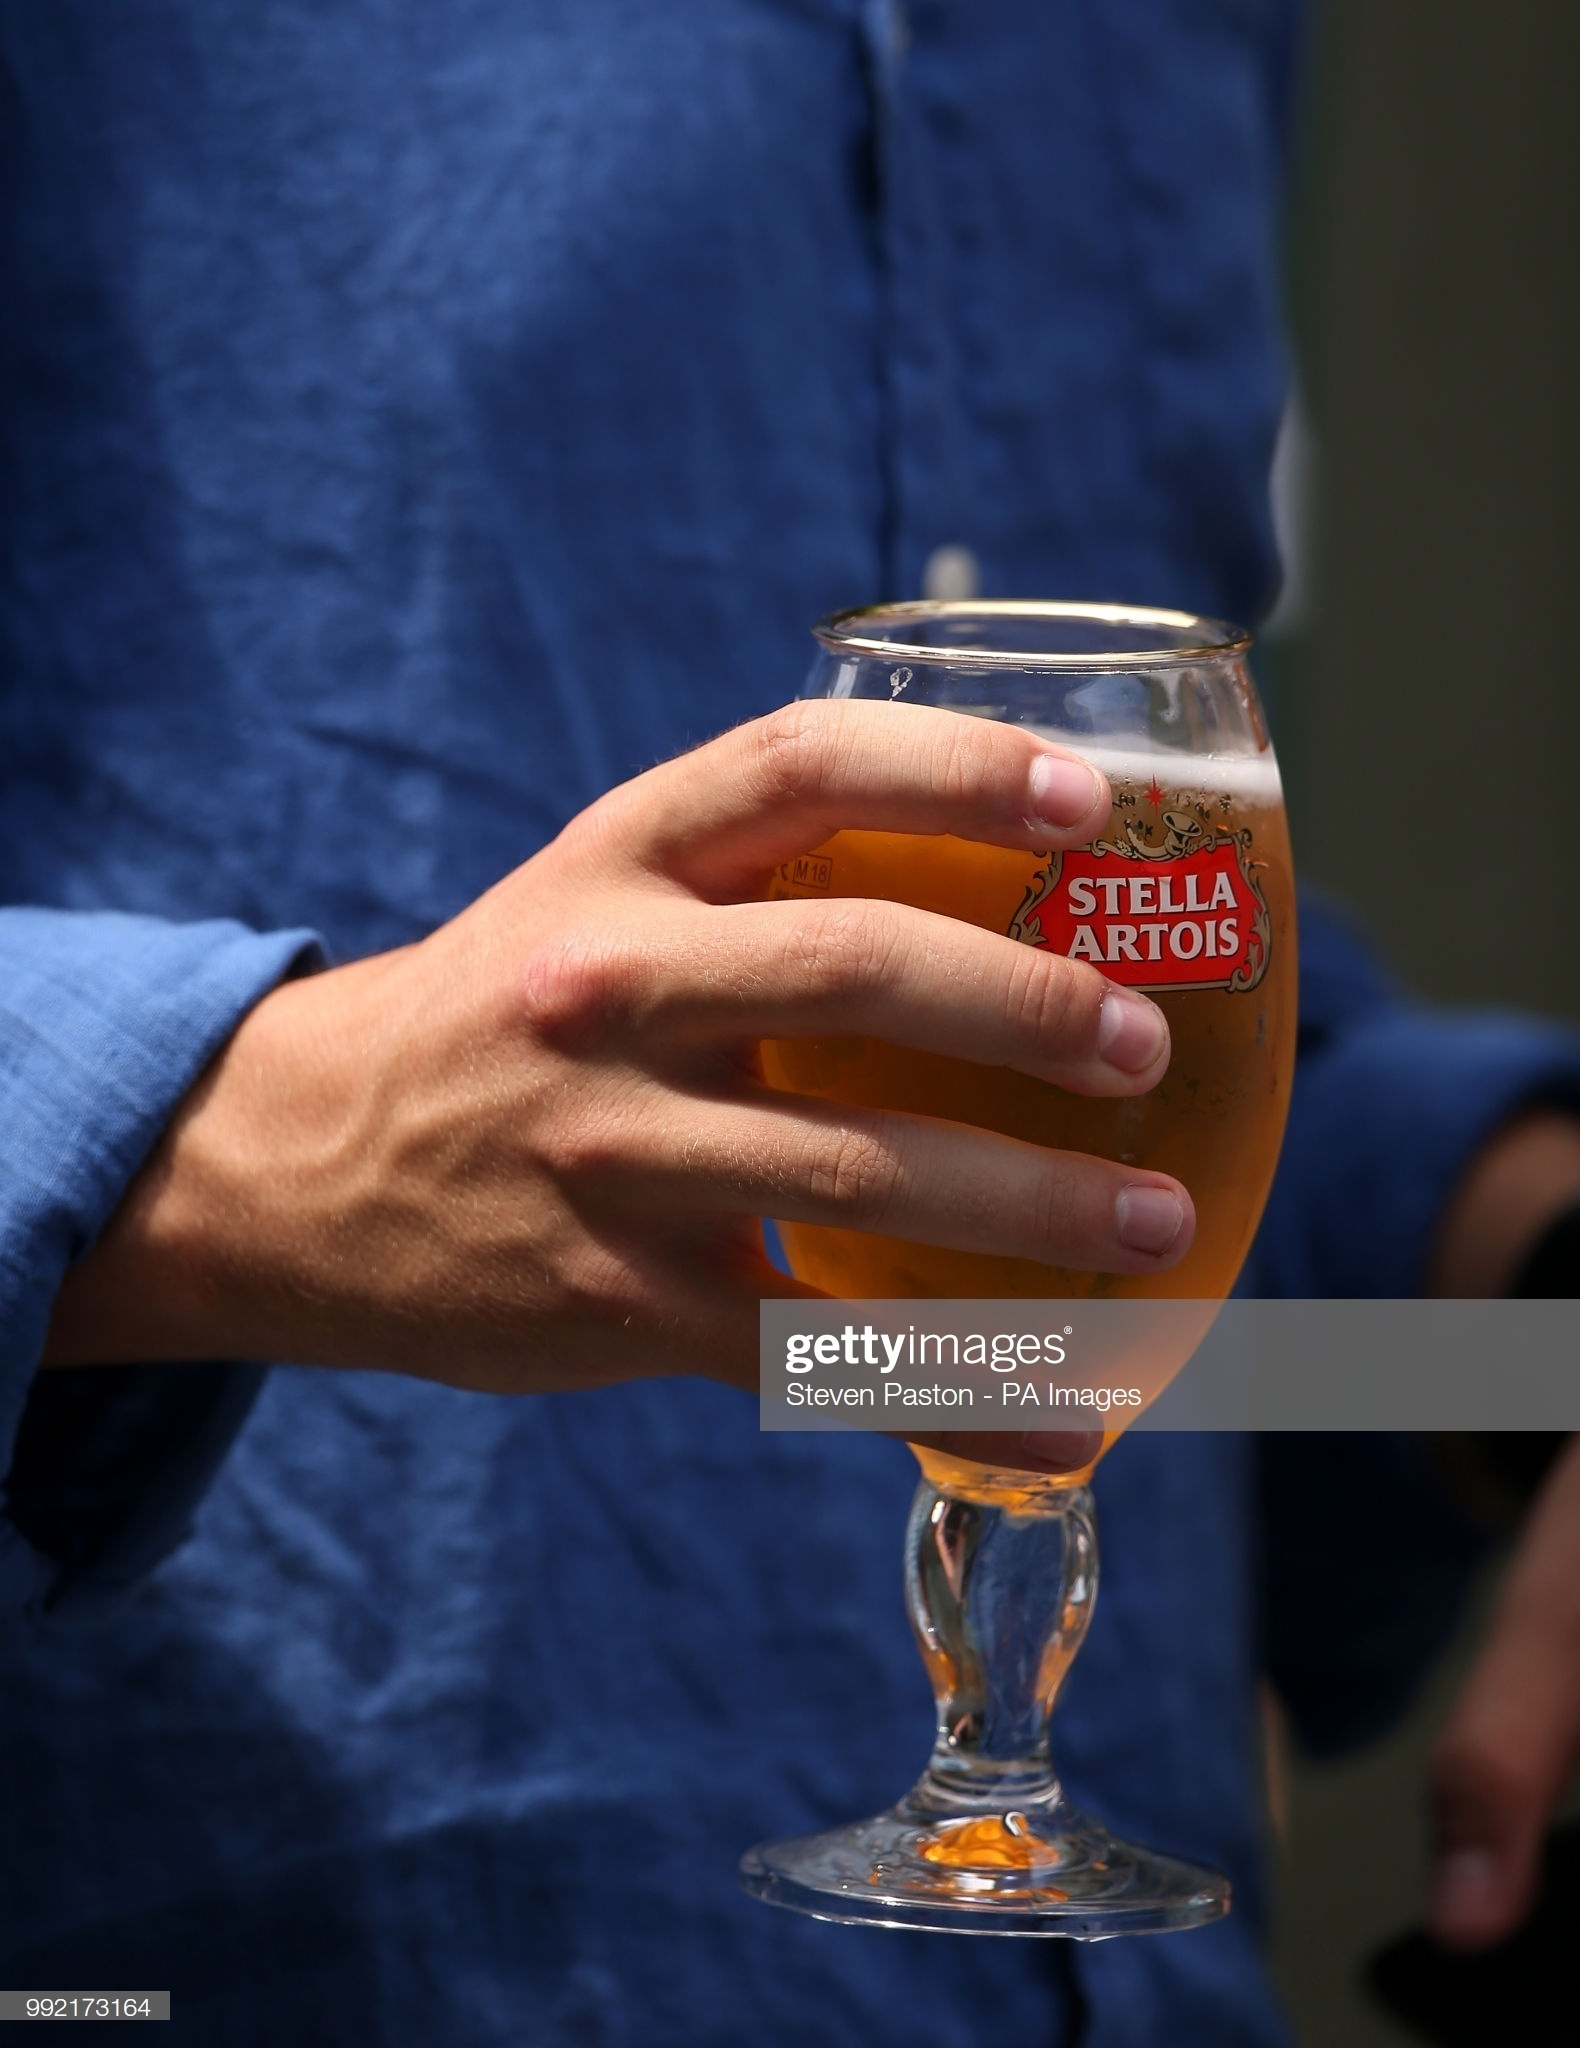whiskey: (729, 621, 1323, 1938)
